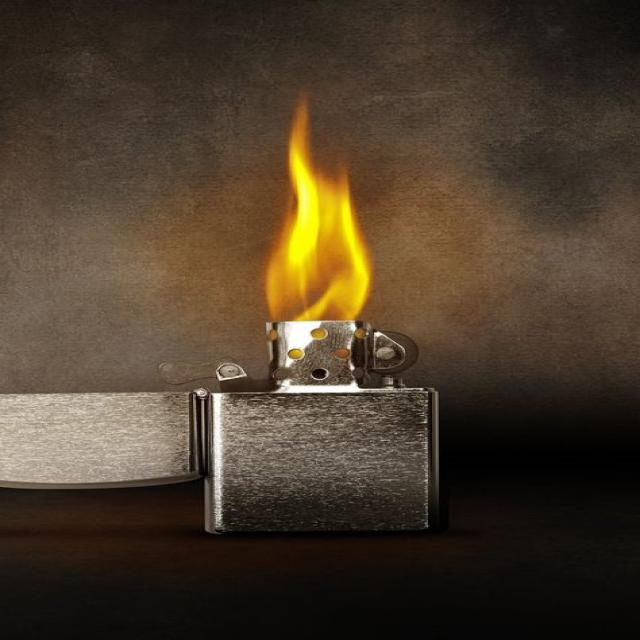Fire: (244, 76, 390, 330)
